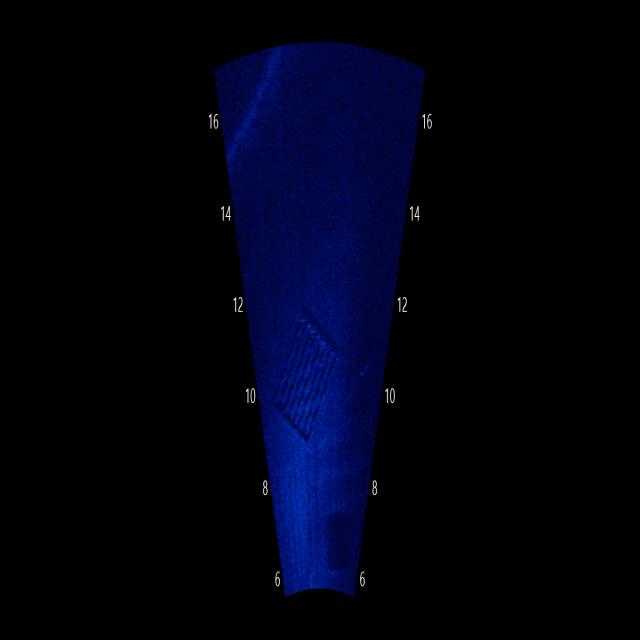square: (266, 288, 348, 463), (316, 502, 361, 588)
